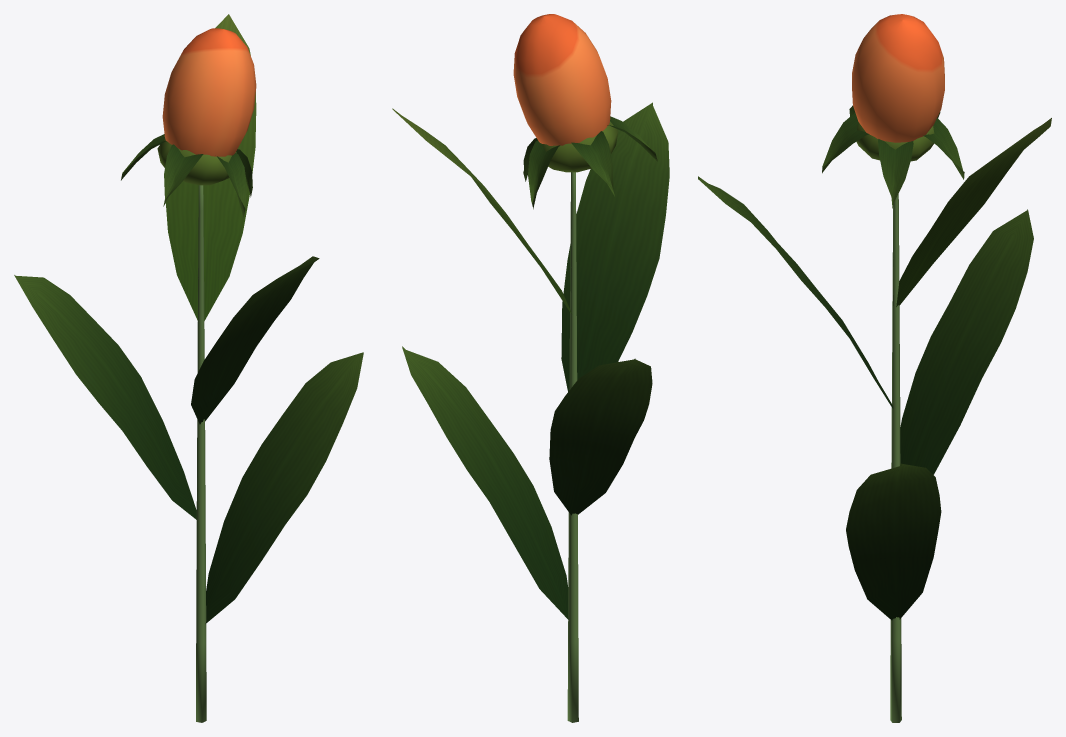
File: tulip-08-lod.glb
3 views of the same model, side by side, from view 1: azimuth 30°, elevation 25°; view 2: azimuth 150°, elevation 25°; view 3: azimuth 270°, elevation 25° (orthographic). The views are drawn at different scales.
Visible parts, largest first — view 1: tulip_stage_08_leaf_veins.015, tulip_stage_08_tulip_petal.015, tulip_stage_08_young_leaf.015, tulip_stage_08_stem_fibres.015; view 2: tulip_stage_08_leaf_veins.015, tulip_stage_08_tulip_petal.015, tulip_stage_08_stem_fibres.015, tulip_stage_08_young_leaf.015; view 3: tulip_stage_08_leaf_veins.015, tulip_stage_08_tulip_petal.015, tulip_stage_08_young_leaf.015, tulip_stage_08_stem_fibres.015.
Part boxes in pixels (<box>): tulip_stage_08_leaf_veins.015: <box>14,134,363,623</box>; tulip_stage_08_tulip_petal.015: <box>162,28,256,156</box>; tulip_stage_08_young_leaf.015: <box>157,14,256,320</box>; tulip_stage_08_stem_fibres.015: <box>196,185,206,722</box>; tulip_stage_08_leaf_veins.015: <box>402,102,669,619</box>; tulip_stage_08_tulip_petal.015: <box>513,14,611,145</box>; tulip_stage_08_stem_fibres.015: <box>567,172,578,722</box>; tulip_stage_08_young_leaf.015: <box>392,108,618,313</box>; tulip_stage_08_leaf_veins.015: <box>698,105,1033,620</box>; tulip_stage_08_tulip_petal.015: <box>852,14,944,142</box>; tulip_stage_08_young_leaf.015: <box>856,118,1051,306</box>; tulip_stage_08_stem_fibres.015: <box>890,194,901,722</box>.
Bounding box in the file's own units: 0.2273 × 0.5146 × 0.2311.
Materials: 4 (3 with a texture image).
